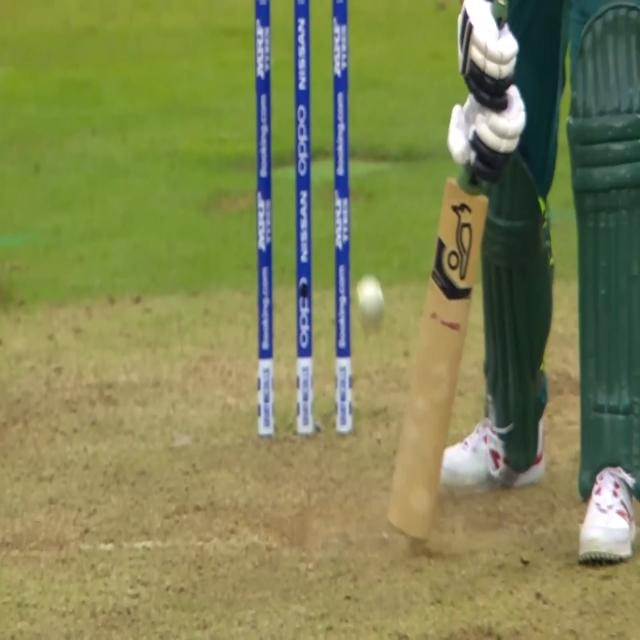ball: (354, 271, 388, 328)
